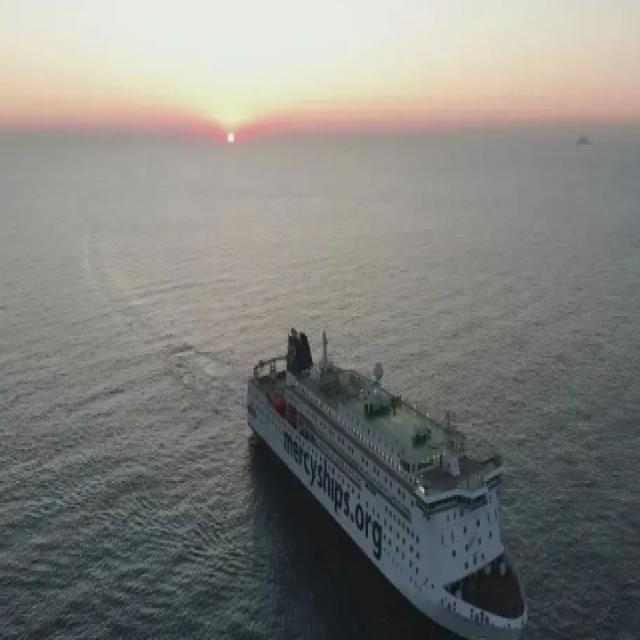passenger ship: (242, 296, 527, 640)
